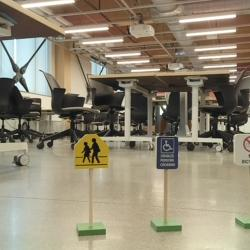disabled_persons_crossing: (155, 136, 179, 170)
no_bicycle: (234, 134, 250, 166)
school_crossing: (74, 134, 109, 169)
